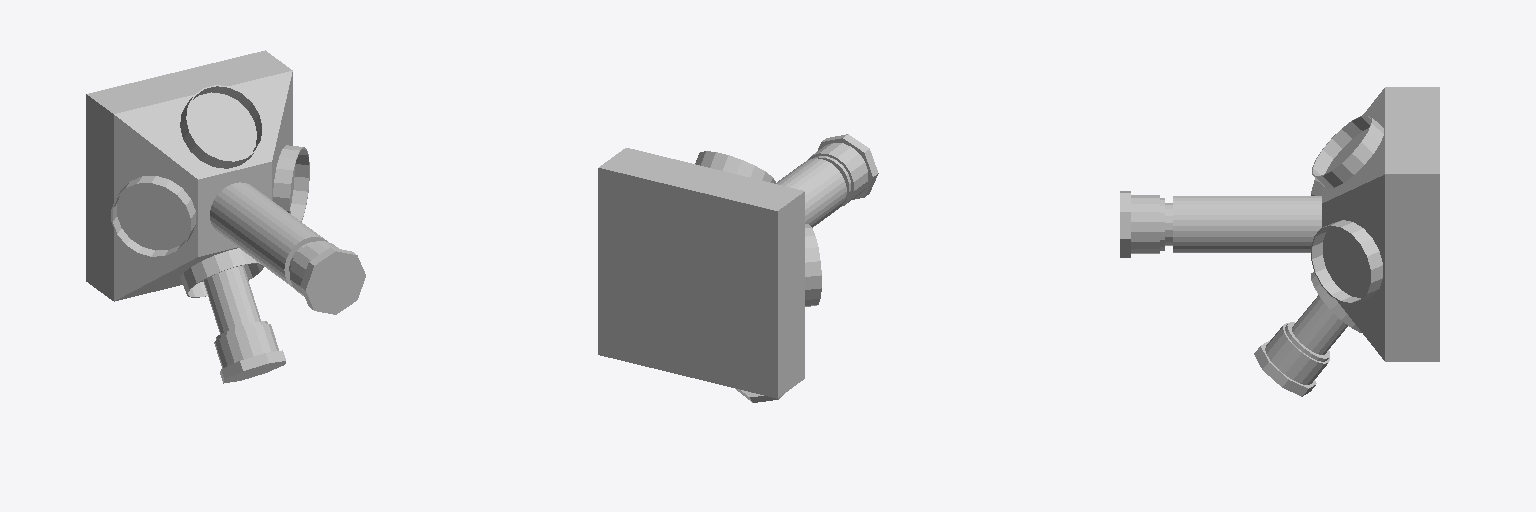
File: pipestar_unsym.obj
3 renders of one model, left to right at view 1: azimuth 30°, elevation 25°; view 2: azimuth 150°, elevation 25°; view 3: azimuth 270°, elevation 25°, orthographic.
Visible parts, largest first — view 1: node; view 2: node; view 3: node.
Part boxes in pixels (x1,y1,x2,y2): node: (86, 50, 365, 383); node: (598, 134, 878, 402); node: (1120, 87, 1439, 396).
Size of the model in its own units: 0.1662 by 0.2176 by 0.2324.